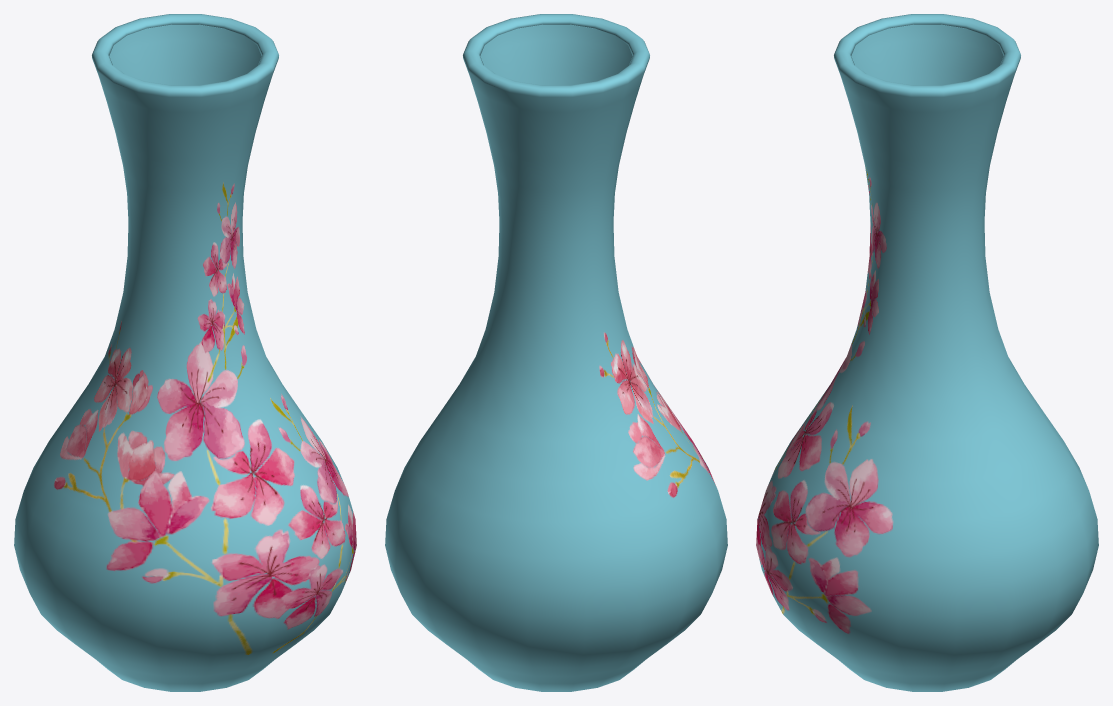
File: Vase.FBX
3 renders of one model, left to right at view 1: azimuth 30°, elevation 25°; view 2: azimuth 150°, elevation 25°; view 3: azimuth 270°, elevation 25°, orthographic.
Visible parts, largest first — view 1: V_Vase; view 2: V_Vase; view 3: V_Vase.
Part boxes in pixels (<box>): V_Vase: <box>14,14,356,691</box>; V_Vase: <box>385,14,727,691</box>; V_Vase: <box>756,14,1098,691</box>.
Bounding box in the file's own units: 4 × 7.93 × 4.06.
1 material, 1 textured.
